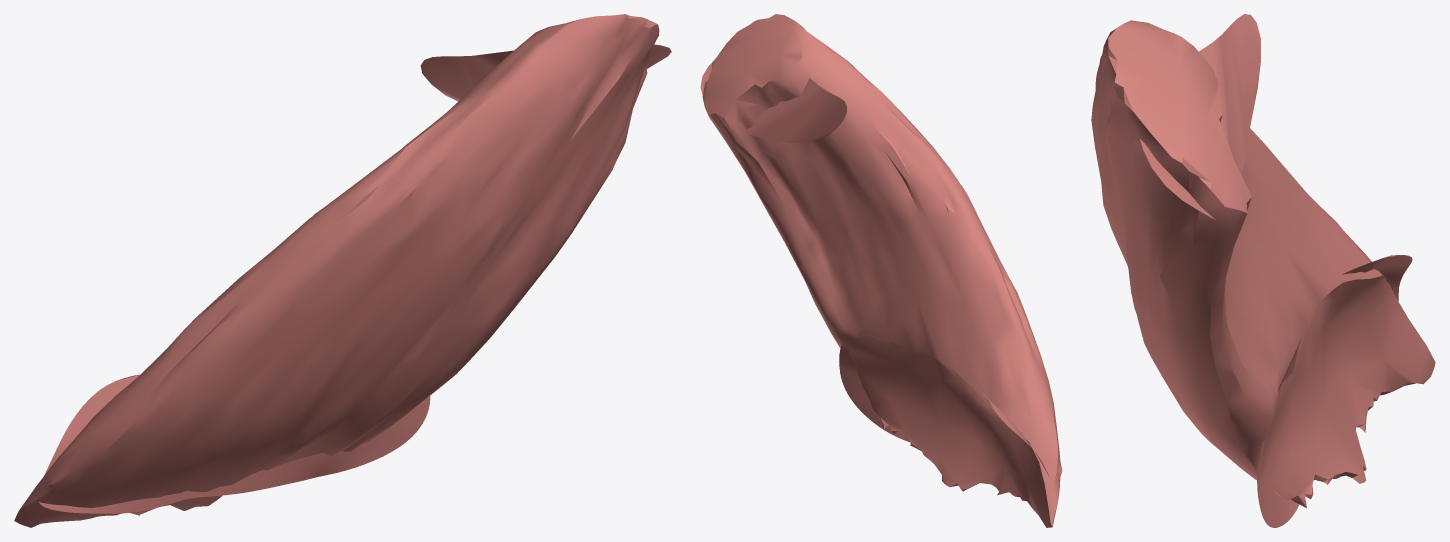
File: fma46313_mm1312m.glb
The picture shows the model from 3 angles, left to right: view 1: azimuth 30°, elevation 25°; view 2: azimuth 150°, elevation 25°; view 3: azimuth 270°, elevation 25°; orthographic projection. The views are drawn at different scales.
Visible parts, largest first — view 1: FMA46313_MM1312M; view 2: FMA46313_MM1312M; view 3: FMA46313_MM1312M.
Part boxes in pixels (bbox=[...]): FMA46313_MM1312M: bbox=[14, 14, 671, 527]; FMA46313_MM1312M: bbox=[700, 14, 1062, 527]; FMA46313_MM1312M: bbox=[1091, 14, 1435, 527].
Size of the model in its own units: 0.0262 by 0.0217 by 0.0103.
